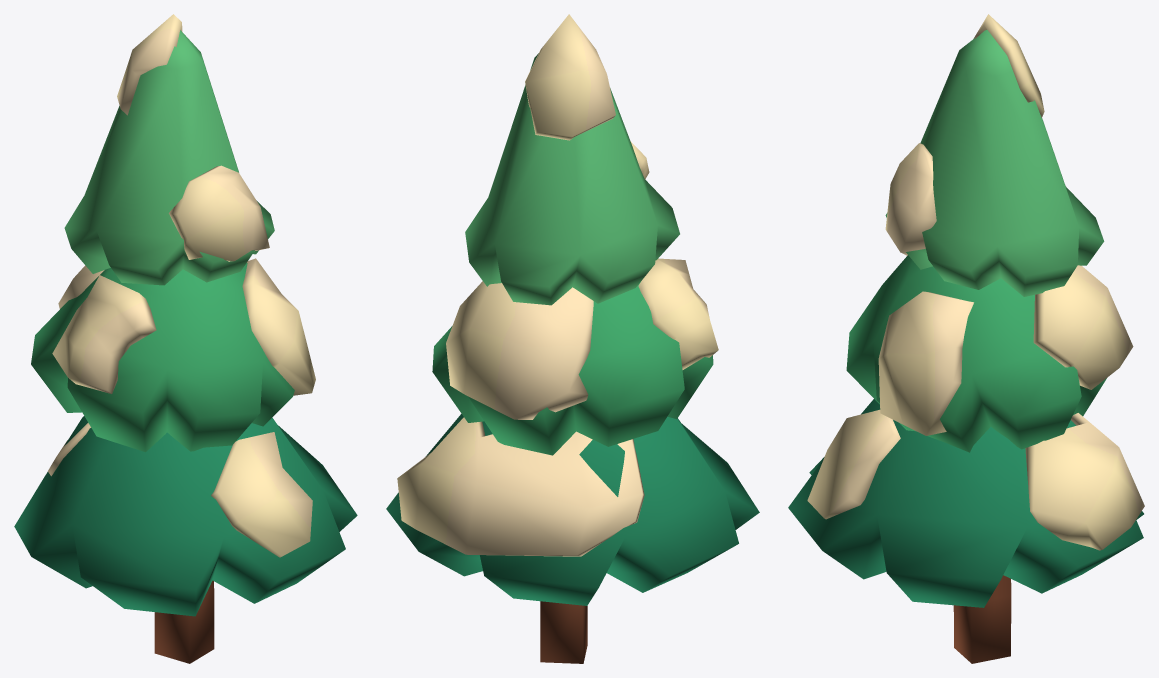
Rendered from tree3.fbx.
The picture shows the model from 3 angles, left to right: view 1: azimuth 30°, elevation 25°; view 2: azimuth 150°, elevation 25°; view 3: azimuth 270°, elevation 25°; orthographic projection.
Parts seen in each view (by area): view 1: tree1; view 2: tree1; view 3: tree1.
Part boxes in pixels (x1,y1,x2,y2): tree1: (14, 14, 357, 663); tree1: (386, 14, 759, 663); tree1: (788, 14, 1144, 663).
Bounding box in the file's own units: 38.46 × 75.61 × 38.44.
